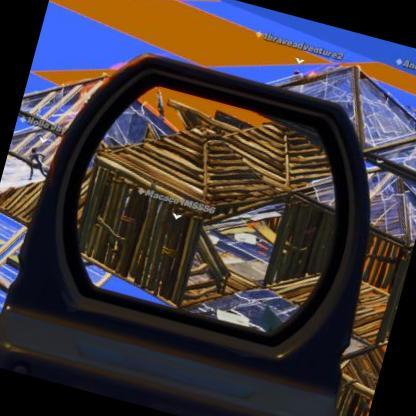person: (14, 140, 49, 182), (409, 97, 416, 128)
